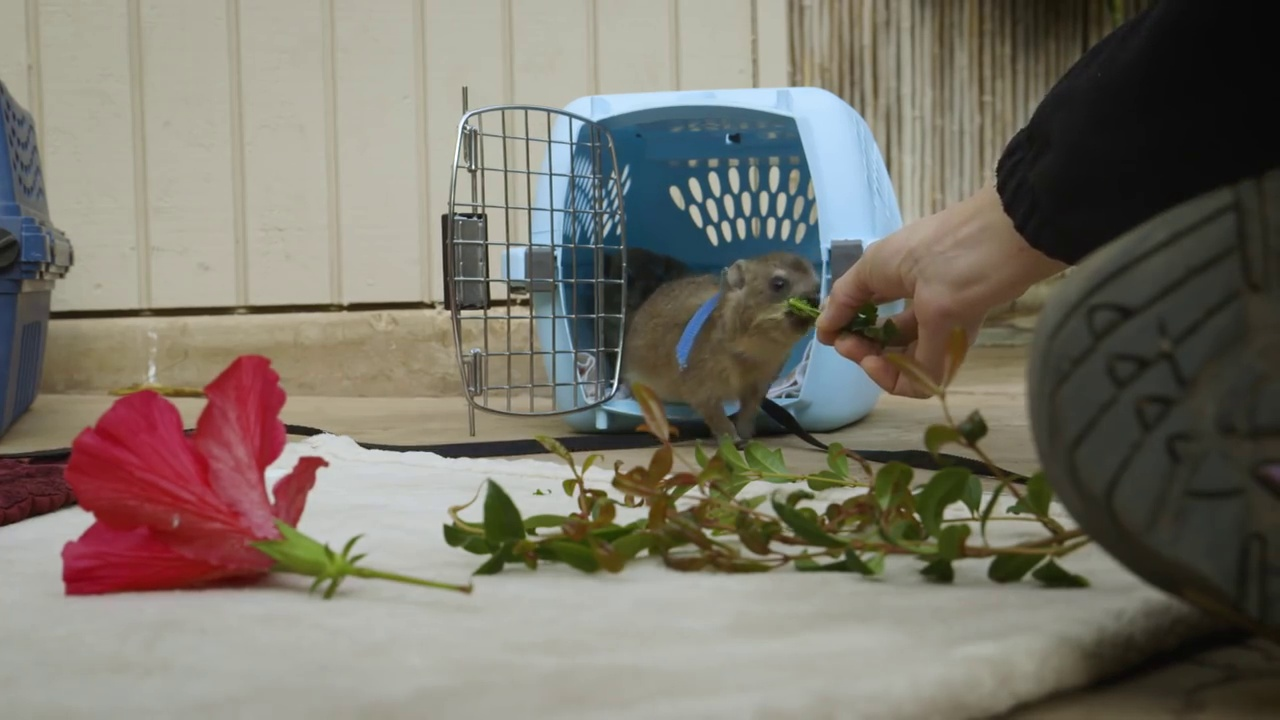Rock Hyrex: (625, 254, 827, 456)
